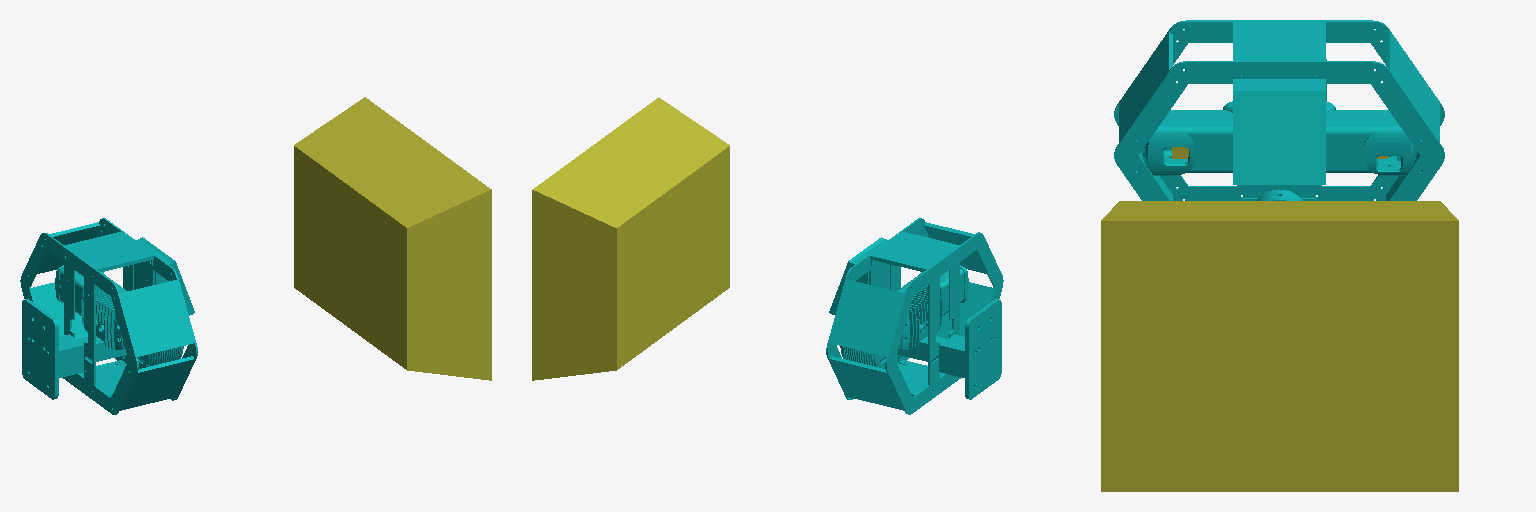
The robot description file, URDF, robot "kuka_kr20_r1810_2":
<?xml version="1.0" ?>
<!-- =================================================================================== -->
<!-- |    This document was autogenerated by xacro from kr16_2.xacro                   | -->
<!-- |    EDITING THIS FILE BY HAND IS NOT RECOMMENDED                                 | -->
<!-- =================================================================================== -->
<!--Generates a urdf from the macro in kr16_2_macro.xacro -->
<robot name="kuka_kr20_r1810_2" xmlns:xacro="http://wiki.ros.org/xacro">
  <!-- LINKS -->
  <!-- base link -->
  <link name="base_link">
    <inertial>
      <origin rpy="0 0 0" xyz="0 0 0"/>
      <mass value="2"/>
      <inertia ixx="0.01" ixy="0" ixz="0" iyy="0.01" iyz="0" izz="0.01"/>
    </inertial>
    <visual>
      <origin rpy="0 0 0" xyz="0 0 0"/>
      <geometry>
        <mesh filename="package://kuka_kr20_support/meshes/kuka_kr20_r1810_2/visual/base_link.stl" scale="0.001 0.001 0.001"/>
      </geometry>
      <material
        name="">
        <color
          rgba="0.1 0.1 0.1 1" />
      </material>
    </visual>
    <collision>
      <origin rpy="0 0 0" xyz="0 0 0"/>
      <geometry>
        <mesh filename="package://kuka_kr20_support/meshes/kuka_kr20_r1810_2/collision/base_link.stl" scale="0.001 0.001 0.001"/>
      </geometry>
    </collision>
  </link>
  <!-- link 1 (A1) -->
  <link name="link_1">
    <inertial>
      <origin rpy="0 0 0" xyz="0 0 0"/>
      <mass value="2"/>
      <inertia ixx="0.01" ixy="0" ixz="0" iyy="0.01" iyz="0" izz="0.01"/>
    </inertial>
    <visual>
      <origin rpy="0 0 0" xyz="0 0 0"/>
      <geometry>
        <mesh filename="package://kuka_kr20_support/meshes/kuka_kr20_r1810_2/visual/link_1.stl" scale="0.001 0.001 0.001"/>
      </geometry>
      <material
        name="">
        <color
          rgba="1.0 0.487 0 1.0" />
      </material>
    </visual>
    <collision>
      <origin rpy="0 0 0" xyz="0 0 0"/>
      <geometry>
        <mesh filename="package://kuka_kr20_support/meshes/kuka_kr20_r1810_2/collision/link_1.stl" scale="0.001 0.001 0.001"/>
      </geometry>
    </collision>
  </link>
  <!-- link 2 -->
  <link name="link_2">
    <inertial>
      <origin rpy="0 0 0" xyz="0 0 0"/>
      <mass value="2"/>
      <inertia ixx="0.01" ixy="0" ixz="0" iyy="0.01" iyz="0" izz="0.01"/>
    </inertial>
    <visual>
      <origin rpy="0 0 0" xyz="0 0 0"/>
      <geometry>
        <mesh filename="package://kuka_kr20_support/meshes/kuka_kr20_r1810_2/visual/link_2.stl" scale="0.001 0.001 0.001"/>
      </geometry>
      <material
        name="">
        <color
          rgba="1.0 0.487 0 1.0" />
      </material>
    </visual>
    <collision>
      <origin rpy="0 0 0" xyz="0 0 0"/>
      <geometry>
        <mesh filename="package://kuka_kr20_support/meshes/kuka_kr20_r1810_2/collision/link_2.stl" scale="0.001 0.001 0.001"/>
      </geometry>
    </collision>
  </link>
  <!-- link 3 -->
  <link name="link_3">
    <inertial>
      <origin rpy="0 0 0" xyz="0 0 0"/>
      <mass value="2"/>
      <inertia ixx="0.01" ixy="0" ixz="0" iyy="0.01" iyz="0" izz="0.01"/>
    </inertial>
    <visual>
      <origin rpy="0 0 0" xyz="0 0 0"/>
      <geometry>
        <mesh filename="package://kuka_kr20_support/meshes/kuka_kr20_r1810_2/visual/link_3.stl" scale="0.001 0.001 0.001"/>
      </geometry>
      <material
        name="">
        <color
          rgba="1.0 0.487 0 1.0" />
      </material>
    </visual>
    <collision>
      <origin rpy="0 0 0" xyz="0 0 0"/>
      <geometry>
        <mesh filename="package://kuka_kr20_support/meshes/kuka_kr20_r1810_2/collision/link_3.stl" scale="0.001 0.001 0.001"/>
      </geometry>
    </collision>
  </link>
  <!-- link 4 -->
  <link name="link_4">
    <inertial>
      <origin rpy="0 0 0" xyz="0 0 0"/>
      <mass value="2"/>
      <inertia ixx="0.01" ixy="0" ixz="0" iyy="0.01" iyz="0" izz="0.01"/>
    </inertial>
    <visual>
      <origin rpy="0 0 0" xyz="0 0 0"/>
      <geometry>
        <mesh filename="package://kuka_kr20_support/meshes/kuka_kr20_r1810_2/visual/link_4.stl" scale="0.001 0.001 0.001"/>
      </geometry>
      <material
        name="">
        <color
          rgba="1.0 0.487 0 1.0" />
      </material>
    </visual>
    <collision>
      <origin rpy="0 0 0" xyz="0 0 0"/>
      <geometry>
        <mesh filename="package://kuka_kr20_support/meshes/kuka_kr20_r1810_2/collision/link_4.stl" scale="0.001 0.001 0.001"/>
      </geometry>
    </collision>
  </link>
  <!-- link 5 -->
  <link name="link_5">
    <inertial>
      <origin rpy="0 0 0" xyz="0 0 0"/>
      <mass value="2"/>
      <inertia ixx="0.01" ixy="0" ixz="0" iyy="0.01" iyz="0" izz="0.01"/>
    </inertial>
    <visual>
      <origin rpy="0 0 0" xyz="0 0 0"/>
      <geometry>
        <mesh filename="package://kuka_kr20_support/meshes/kuka_kr20_r1810_2/visual/link_5.stl" scale="0.001 0.001 0.001"/>
      </geometry>
      <material
        name="">
        <color
          rgba="1.0 0.487 0 1.0" />
      </material>
    </visual>
    <collision>
      <origin rpy="0 0 0" xyz="0 0 0"/>
      <geometry>
        <mesh filename="package://kuka_kr20_support/meshes/kuka_kr20_r1810_2/collision/link_5.stl" scale="0.001 0.001 0.001"/>
      </geometry>
    </collision>
  </link>
  <!-- link 6 -->
  <link name="link_6">
    <inertial>
      <origin rpy="0 0 0" xyz="0 0 0"/>
      <mass value="2"/>
      <inertia ixx="0.01" ixy="0" ixz="0" iyy="0.01" iyz="0" izz="0.01"/>
    </inertial>
    <visual>
      <origin rpy="0 0 0" xyz="0 0 0"/>
      <geometry>
        <mesh filename="package://kuka_kr20_support/meshes/kuka_kr20_r1810_2/visual/link_6.stl" scale="0.001 0.001 0.001"/>
      </geometry>
      <material
        name="">
        <color
          rgba="1.0 0.487 0 1.0" />
      </material>
    </visual>
    <collision>
      <origin rpy="0 0 0" xyz="0 0 0"/>
      <geometry>
        <mesh filename="package://kuka_kr20_support/meshes/kuka_kr20_r1810_2/collision/link_6.stl" scale="0.001 0.001 0.001"/>
      </geometry>
    </collision>
  </link>
  <!-- tool 0 -->
  <!-- This frame corresponds to the $FLANGE coordinate system in KUKA KRC controllers. -->
<!--   <link name="tool0"/> -->

  <link name="tool0">
    <visual>
      <origin xyz="0 0 0" rpy="-1.5708 -1.5708 0"/>
      <geometry>
        <mesh scale = "0.001 0.001 0.001" filename="package://kuka_kr20_support/meshes/kuka_kr20_r1810_2/visual/photoneo_l515_mount_v3.STL"/>
      </geometry>
      <material
        name="">
        <color
          rgba="0.1 0.75 0.75 0.9"/>
      </material>
    </visual>
  </link>  

  <link name="tcp">
    <visual>
      <origin xyz="0 0 0" rpy="0 3.1416 1.5708"/>
      <geometry>
        <mesh scale = "1.0 1.0 1.0" filename="package://kuka_kr20_support/meshes/kuka_kr20_r1810_2/visual/PhotoneoFrustum.STL"/>
      </geometry>
      <material
        name="">
        <color
          rgba="0.75 0.75 0.25 0.75"/>
      </material>
    </visual>
  </link>  

  <link name="p_frustum"/>

  <!-- END LINKS -->
  <!-- JOINTS -->
  <!-- joint 1 (A1) -->
  <joint name="joint_a1" type="revolute">
    <origin rpy="0 0 0" xyz="0 0 0.519"/>
    <parent link="base_link"/>
    <child link="link_1"/>
    <axis xyz="0 0 -1"/>
    <limit effort="0" lower="-3.22885911619" upper="3.22885911619" velocity="2.72271363311"/>
  </joint>
  <!-- joint 2 (A2) -->
  <joint name="joint_a2" type="revolute">
    <origin rpy="0 0 0" xyz="0.16 0 0"/>
    <parent link="link_1"/>
    <child link="link_2"/>
    <axis xyz="0 1 0"/>
    <limit effort="0" lower="-2.70526034059" upper="0.610865238198" velocity="2.72271363311"/>
  </joint>
  <!-- joint 3 (A3) -->
  <joint name="joint_a3" type="revolute">
    <origin rpy="0 0 0" xyz="0.78 0 0"/>
    <parent link="link_2"/>
    <child link="link_3"/>
    <axis xyz="0 1 0"/>
    <limit effort="0" lower="-2.26892802759" upper="2.68780704807" velocity="2.72271363311"/>
  </joint>
  <!-- joint 4 (A4) -->
  <joint name="joint_a4" type="revolute">
    <origin rpy="0 0 0" xyz="0 0 0.150"/>
    <parent link="link_3"/>
    <child link="link_4"/>
    <axis xyz="-1 0 0"/>
    <limit effort="0" lower="-6.10865238198" upper="6.10865238198" velocity="5.75958653158"/>
  </joint>
  <!-- joint 5 (A5) -->
  <joint name="joint_a5" type="revolute">
    <origin rpy="0 0 0" xyz="0.86 0 0"/>
    <parent link="link_4"/>
    <child link="link_5"/>
    <axis xyz="0 1 0"/>
    <limit effort="0" lower="-2.26892802759" upper="2.26892802759" velocity="5.75958653158"/>
  </joint>
  <!-- joint 6 (A6) -->
  <joint name="joint_a6" type="revolute">
    <origin rpy="0 0 0" xyz="0.153 0 0"/>
    <parent link="link_5"/>
    <child link="link_6"/>
    <axis xyz="-1 0 0"/>
    <limit effort="0" lower="-6.10865238198" upper="6.10865238198" velocity="10.7337748998"/>
  </joint>
  <!-- tool frame - fixed frame -->
  <joint name="joint_a6-tool0" type="fixed">
    <parent link="link_6"/>
    <child link="tool0"/>
    <origin rpy="0 1.57079632679 0" xyz="0 0 0"/>
  </joint>
  <!-- END JOINTS -->
  <!-- ROS base_link to KUKA $ROBROOT coordinate system transform -->
  <link name="base"/>
  <joint name="base_link-base" type="fixed">
    <origin rpy="0 0 0" xyz="0 0 0"/>
    <parent link="base_link"/>
    <child link="base"/>
  </joint>
<!-- TCP offset to the photoneo sensor -->
  <joint
    name="joint_tcp"
    type="fixed">
    <origin
      xyz="0 0 0.16"
      rpy="0 0 0" />
    <parent
      link="tool0" />
    <child
      link="tcp" />
  </joint> 
<!--   Offset to the photoneo optimal scanning distance --> 
  <joint
    name="p_frustum_joint"
    type="fixed">
    <origin
      xyz="0 0 0.442"
      rpy="0 0 0" />
    <parent
      link="tcp" />
    <child
      link="p_frustum" />
  </joint> 

</robot>

--- Render facts (derived) ---
3 views of the same robot in one strip: view 1: azimuth 30°, elevation 25°; view 2: azimuth 150°, elevation 25°; view 3: azimuth 270°, elevation 25° (orthographic).
Robot: kuka_kr20_r1810_2 — 11 links, 10 joints (6 revolute, 4 fixed); root link base_link; default pose: all joints at 0.
Links seen in each view (by area): view 1: tcp, tool0; view 2: tcp, tool0; view 3: tcp, tool0.
Boxes of the visible links, x1=… form: tcp: x1=294, y1=97, x2=491, y2=380; tool0: x1=20, y1=218, x2=197, y2=414; tcp: x1=532, y1=97, x2=729, y2=380; tool0: x1=826, y1=218, x2=1003, y2=414; tcp: x1=1101, y1=147, x2=1458, y2=491; tool0: x1=1114, y1=20, x2=1444, y2=200.
Bounding box of the posed robot: 0.68 × 0.382 × 0.319 m (x, y, z).
2 mesh visuals loaded from 9 distinct referenced files (2 binary STL); not drawn: 7 (reference not matched to a file when rendering).